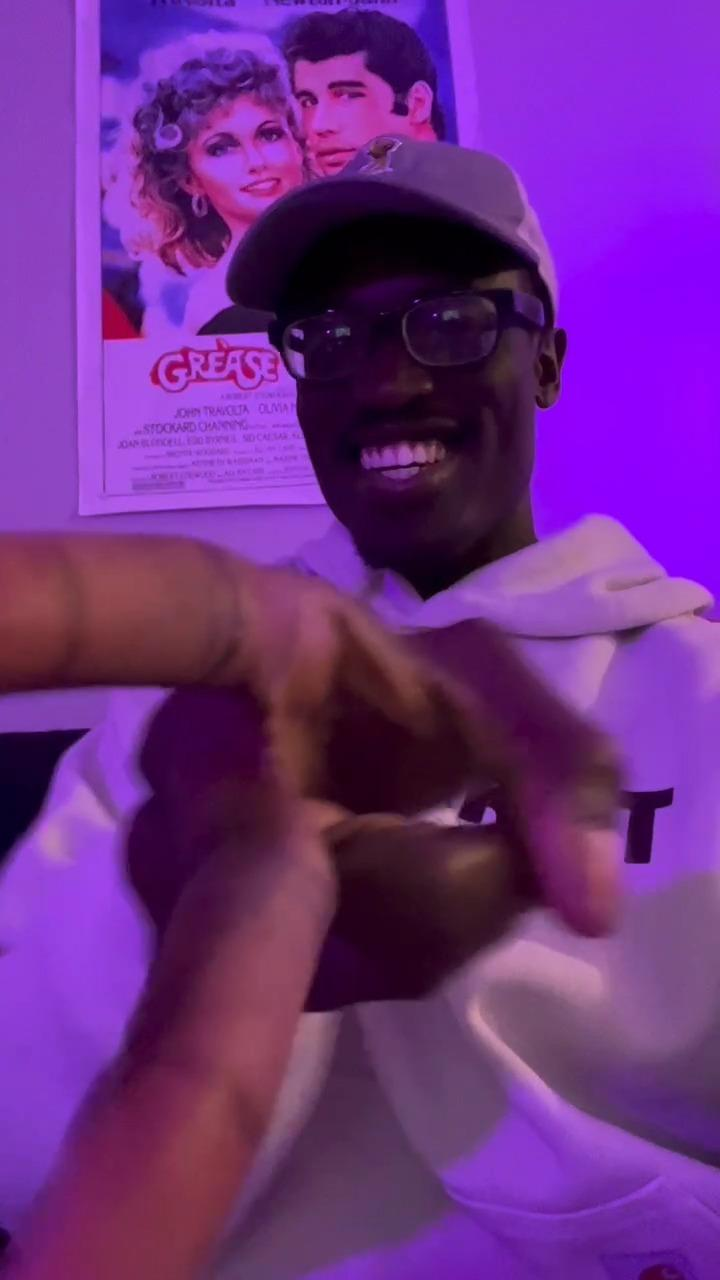Scissors: (0, 526, 644, 1280)
